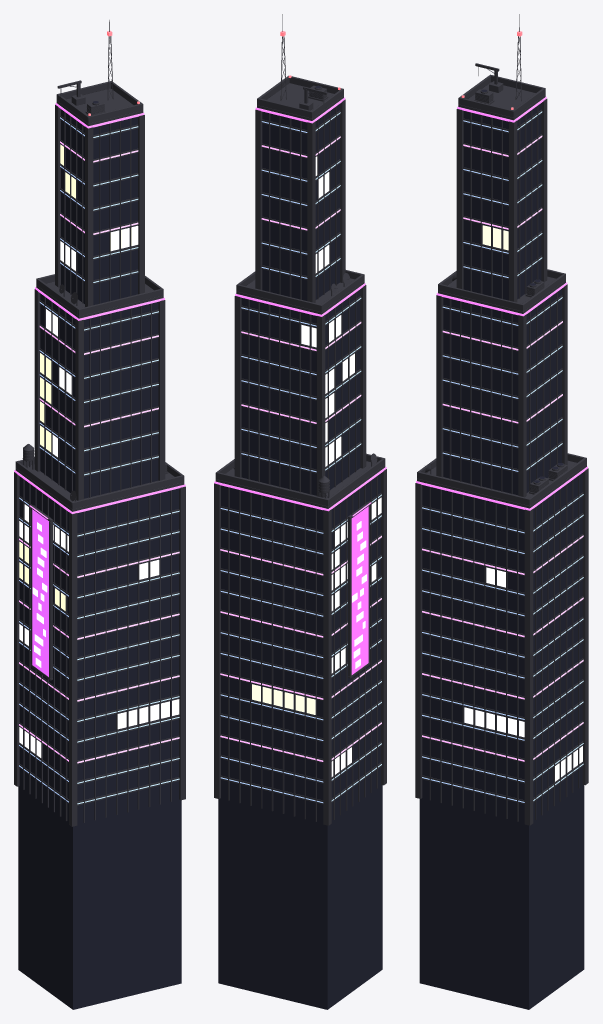
The model's file is tower_b.glb.
3 renders of one model, left to right at view 1: azimuth 30°, elevation 25°; view 2: azimuth 150°, elevation 25°; view 3: azimuth 330°, elevation 25°, orthographic.
Parts seen in each view (by area): view 1: tower_b; view 2: tower_b; view 3: tower_b.
Boxes of the visible parts, x1,y1,x2,y2 form: tower_b: [14, 20, 185, 1009]; tower_b: [214, 14, 386, 1009]; tower_b: [415, 14, 588, 1009].
Size of the model in its own units: 17.47 by 135 by 14.8.
